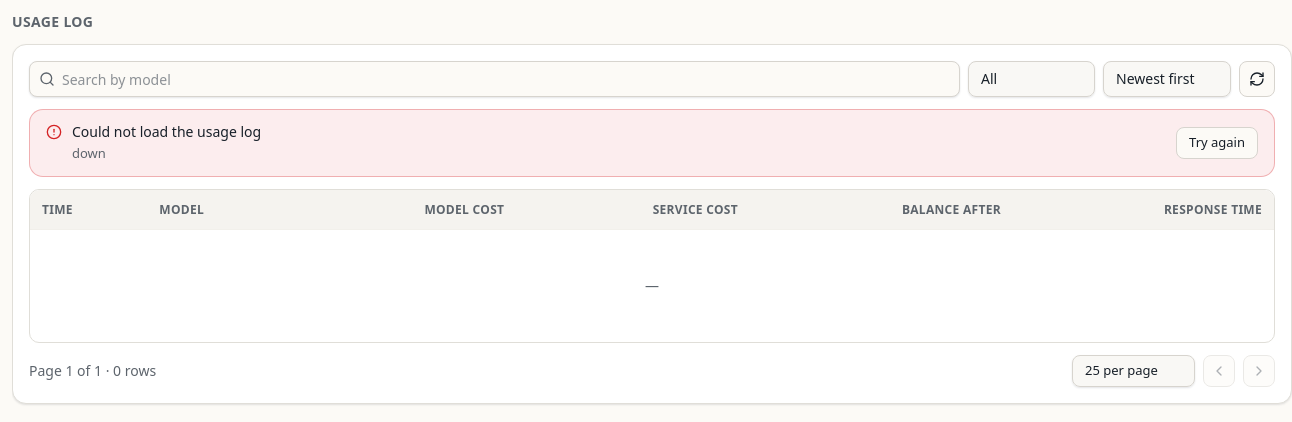
Test: UsageLog › shows a retry notice instead of an empty log when loading fails
The width and height of the screenshot is (1292, 422).
Expected: the message shows "Could not load the usage log", [72,122,261,141]
Click the button "Try again".
click(1217, 143)  # box [1176,127,1258,159]
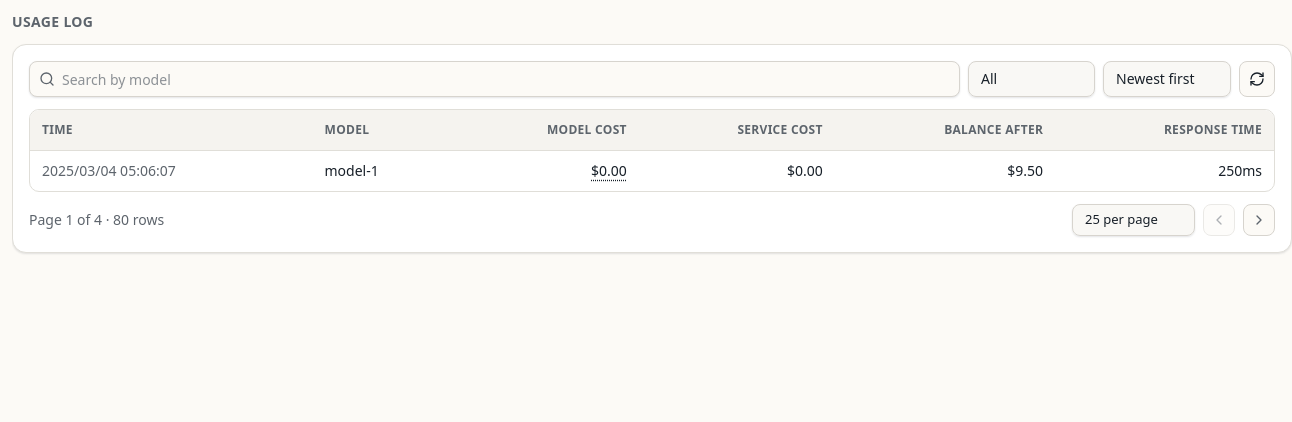
Now the text "model-1" is shown, box [312,150,453,190]
Now the message "Could not load the usage log down Try again" is gone
